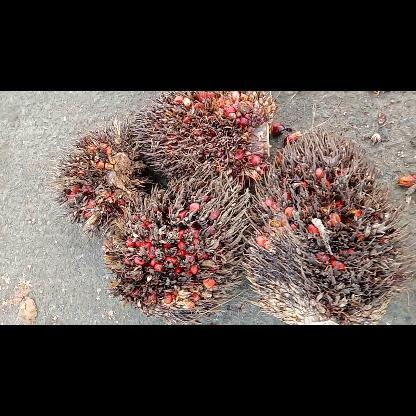Terlalu masak: (244, 126, 416, 324), (97, 168, 258, 324), (127, 90, 284, 186), (44, 113, 160, 240)
